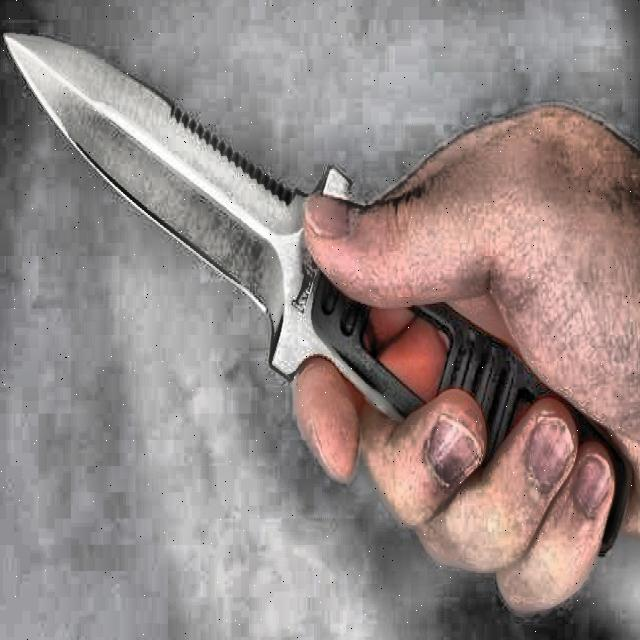knife: (5, 34, 632, 556)
